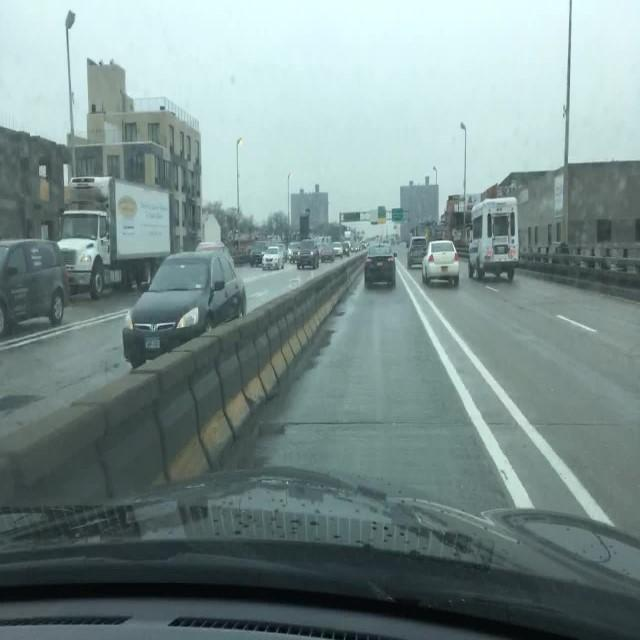normal: (52, 179, 182, 304), (122, 245, 249, 359), (0, 238, 67, 336), (468, 198, 518, 281), (420, 240, 460, 288), (364, 255, 397, 290), (262, 249, 285, 272)
